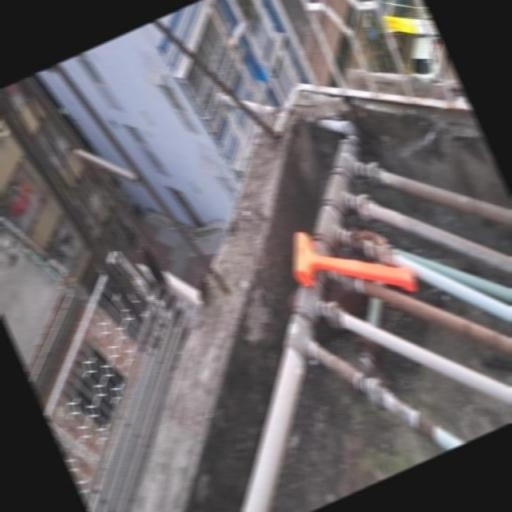mallet: (280, 196, 421, 334)
